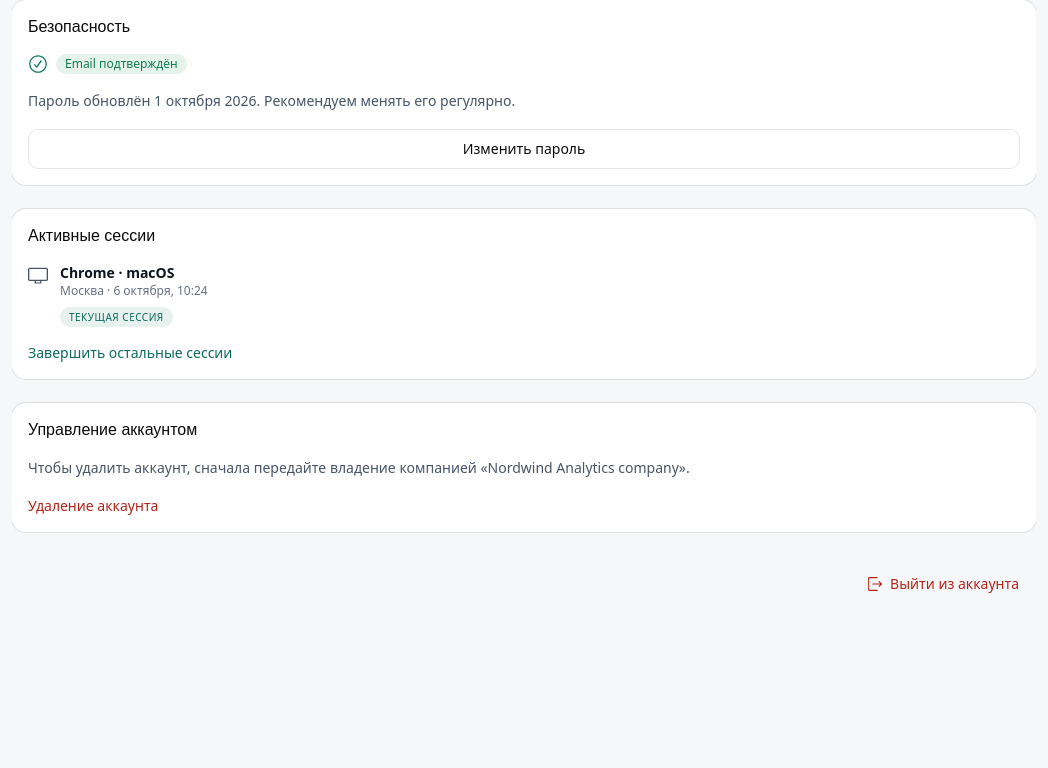
SecuritySidebar › отправляет запрос на завершение остальных сессий
Click the button "Завершить остальные сессии".
click(130, 352)  # box [28,343,1020,363]
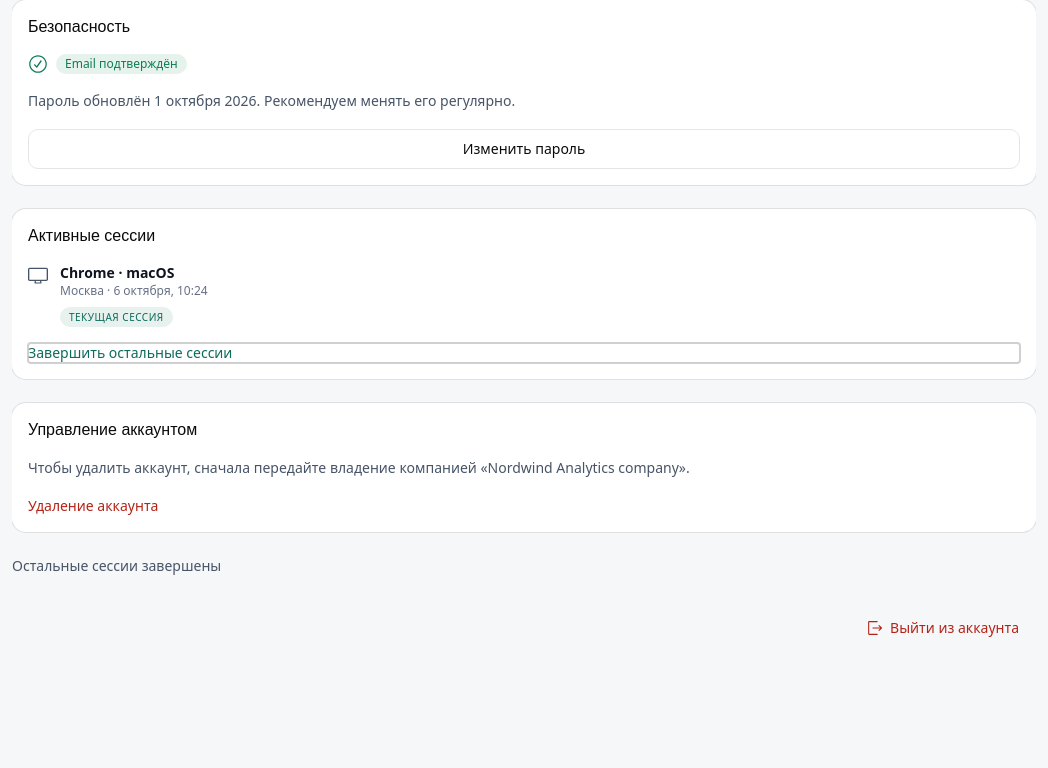
expect the text "Остальные сессии завершены" is shown: met, box [12,556,221,574]
